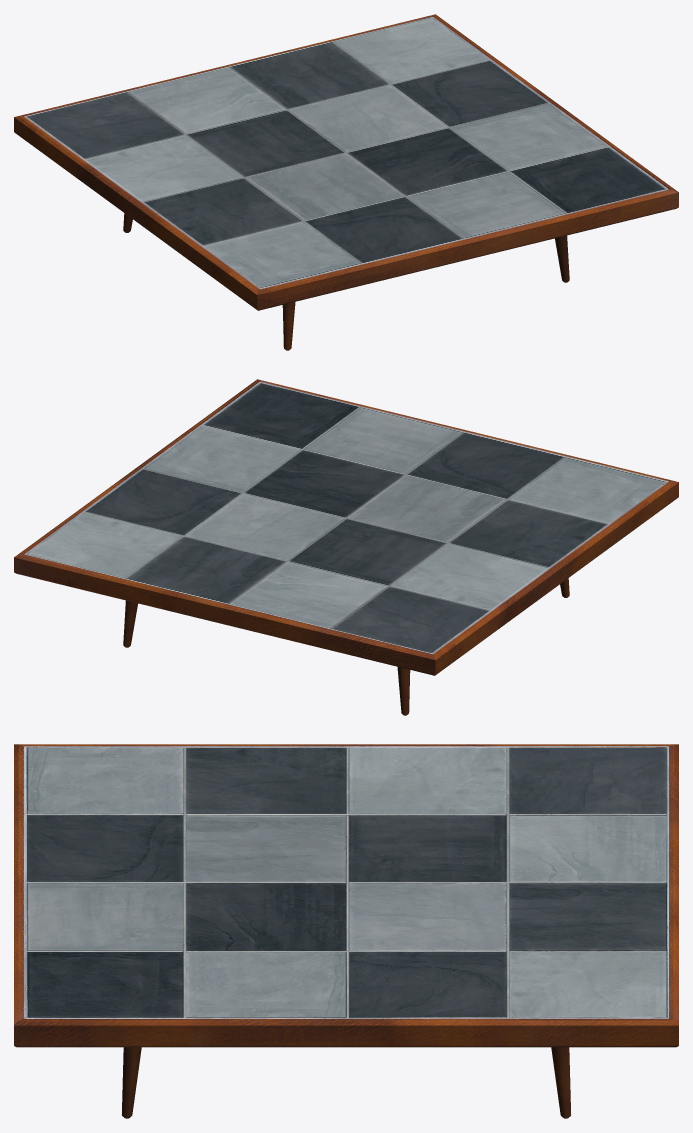
File: mesinha.glb
3 renders of one model, top to bottom at view 1: azimuth 30°, elevation 25°; view 2: azimuth 150°, elevation 25°; view 3: azimuth 270°, elevation 25°, orthographic. The views are drawn at different scales.
Parts seen in each view (by area): view 1: embassy_coffee_table; view 2: embassy_coffee_table; view 3: embassy_coffee_table.
Part boxes in pixels (x1,y1,x2,y2): embassy_coffee_table: (14, 14, 678, 350); embassy_coffee_table: (14, 379, 678, 715); embassy_coffee_table: (14, 744, 678, 1118).
Size of the model in its own units: 0.72 by 0.17 by 0.72.
Materials: 1 (1 with a texture image).
